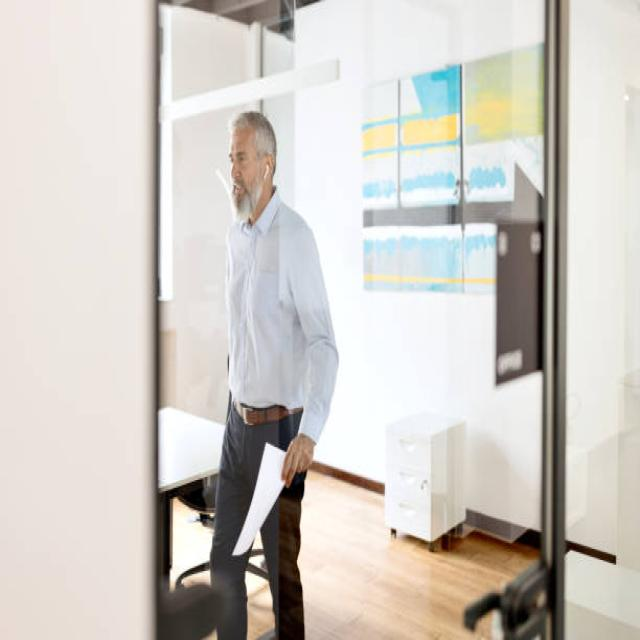airpods: (262, 163, 270, 183)
